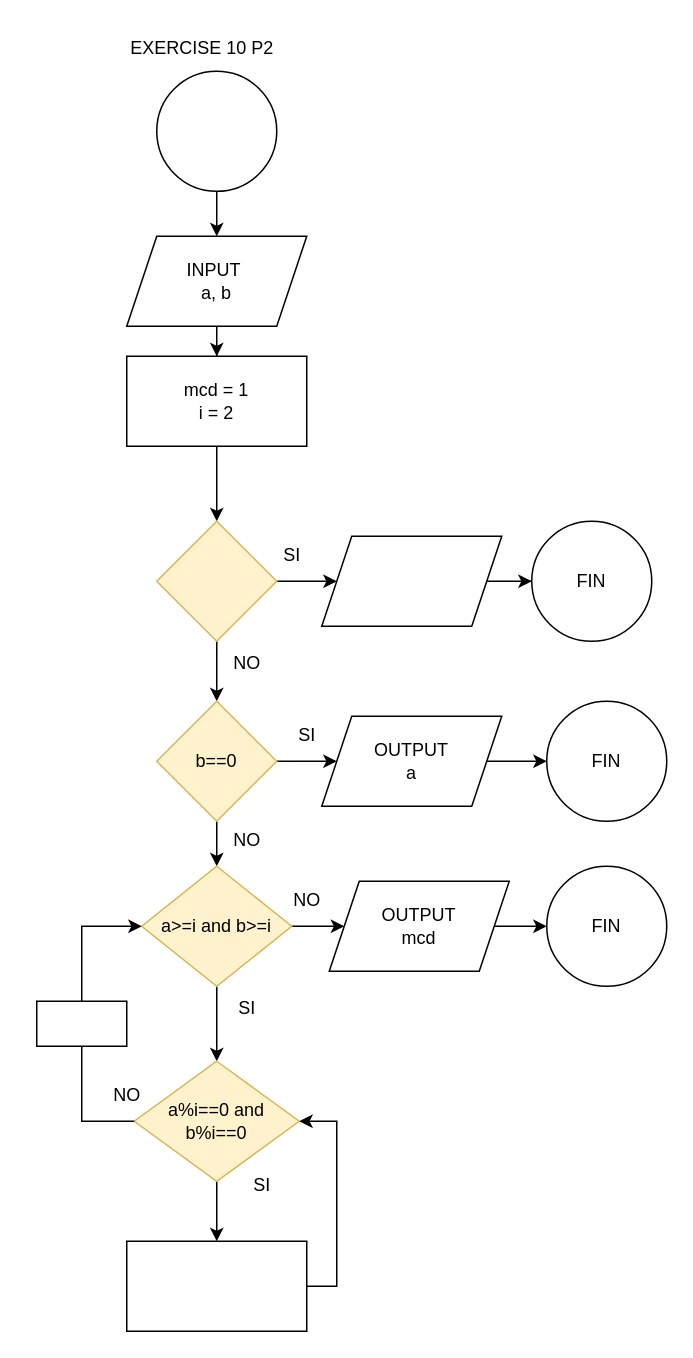
The diagram is 693 pixels wide and 1358 high, and some of its shapes have lost their labels. The box of each missing label's shape, as (x1, y1, x2, y2) in pixels:
++i: (35, 1000, 127, 1046)
a==0: (155, 520, 277, 641)
INICIO: (155, 70, 277, 191)
mcd = mcd * i a = a/ i b = b/ i: (125, 1240, 307, 1331)
OUTPUT b: (320, 535, 502, 626)
